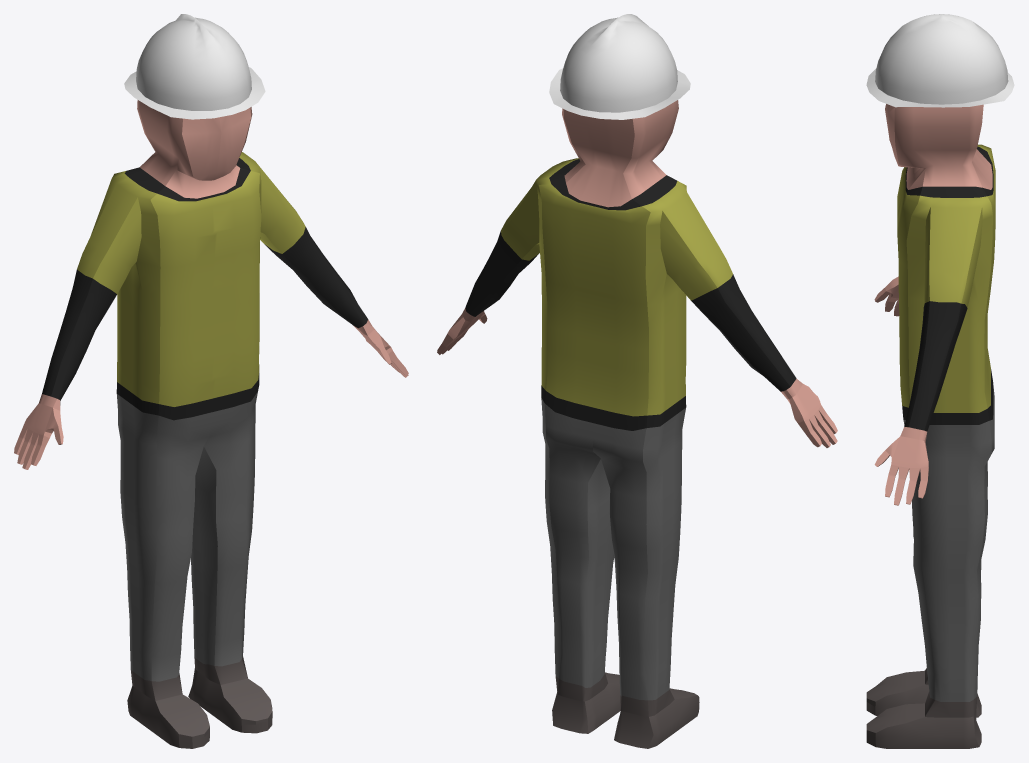
The model's file is Worker.fbx.
3 renders of one model, left to right at view 1: azimuth 30°, elevation 25°; view 2: azimuth 150°, elevation 25°; view 3: azimuth 270°, elevation 25°, orthographic. The views are drawn at different scales.
Parts seen in each view (by area): view 1: Worker; view 2: Worker; view 3: Worker.
Part boxes in pixels (x1,y1,x2,y2): Worker: (14,14,408,748); Worker: (437,14,837,748); Worker: (866,14,1014,748).
Size of the model in its own units: 15.78 by 27.21 by 5.14.
